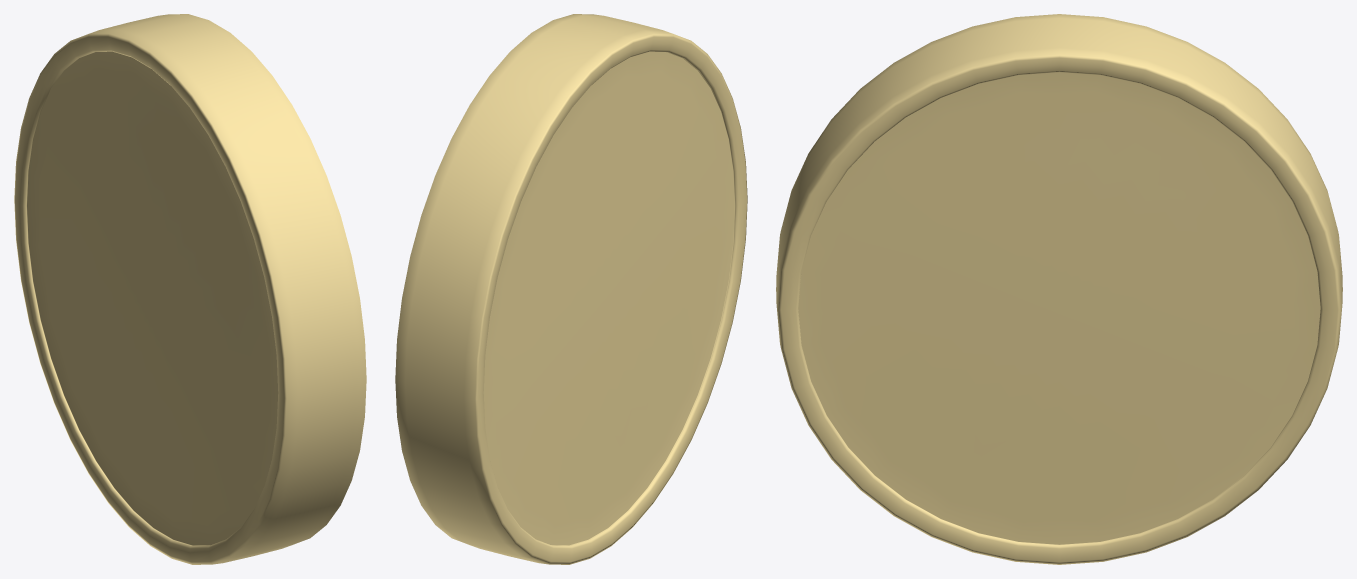
The model's file is Coin.fbx.
3 views of the same model, side by side, from view 1: azimuth 30°, elevation 25°; view 2: azimuth 150°, elevation 25°; view 3: azimuth 270°, elevation 25° (orthographic). The views are drawn at different scales.
Visible parts, largest first — view 1: Coin; view 2: Coin; view 3: Coin.
Part boxes in pixels (x1=…): Coin: x1=14, y1=14, x2=366, y2=564; Coin: x1=395, y1=14, x2=747, y2=564; Coin: x1=776, y1=14, x2=1342, y2=564.
Bounding box in the file's own units: 5.74 × 33.34 × 33.34.
